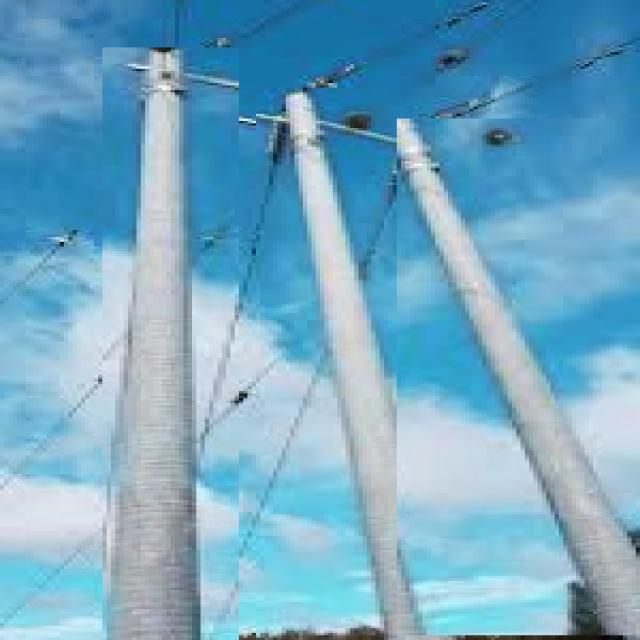light_pole: (397, 119, 640, 636), (255, 87, 422, 640), (102, 47, 239, 640)
